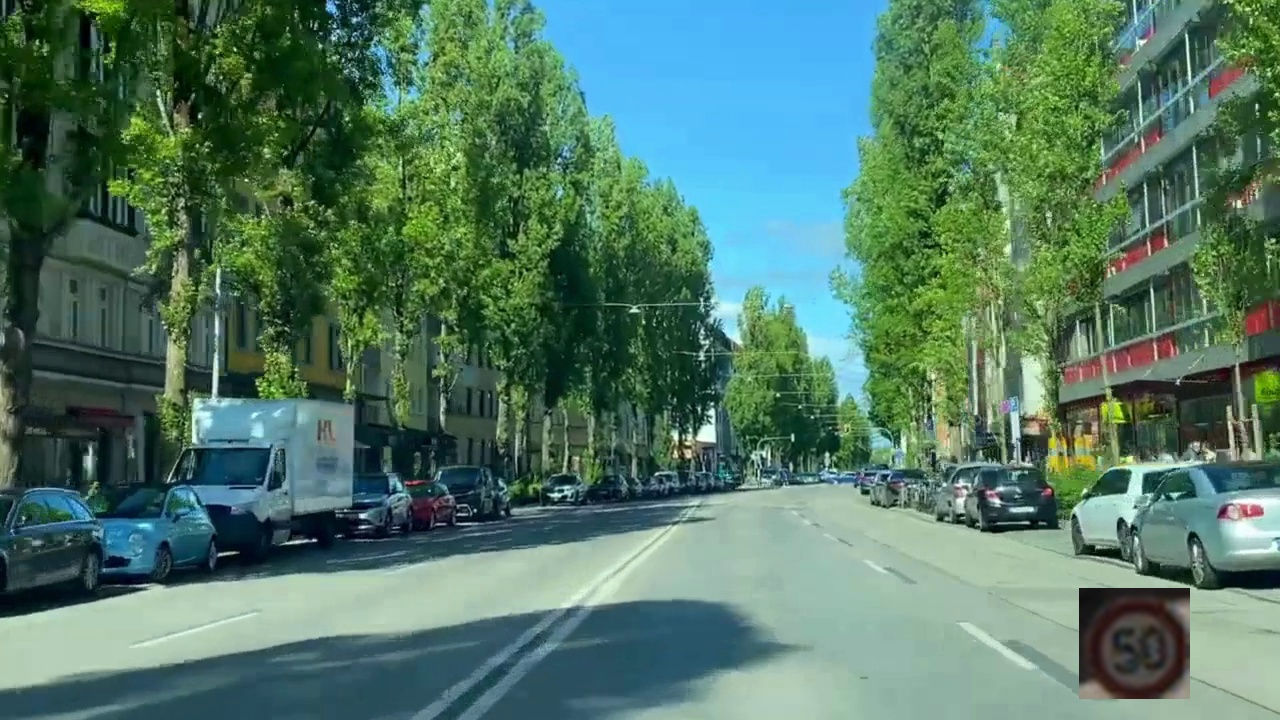Speed 50: (1079, 588, 1190, 699)
